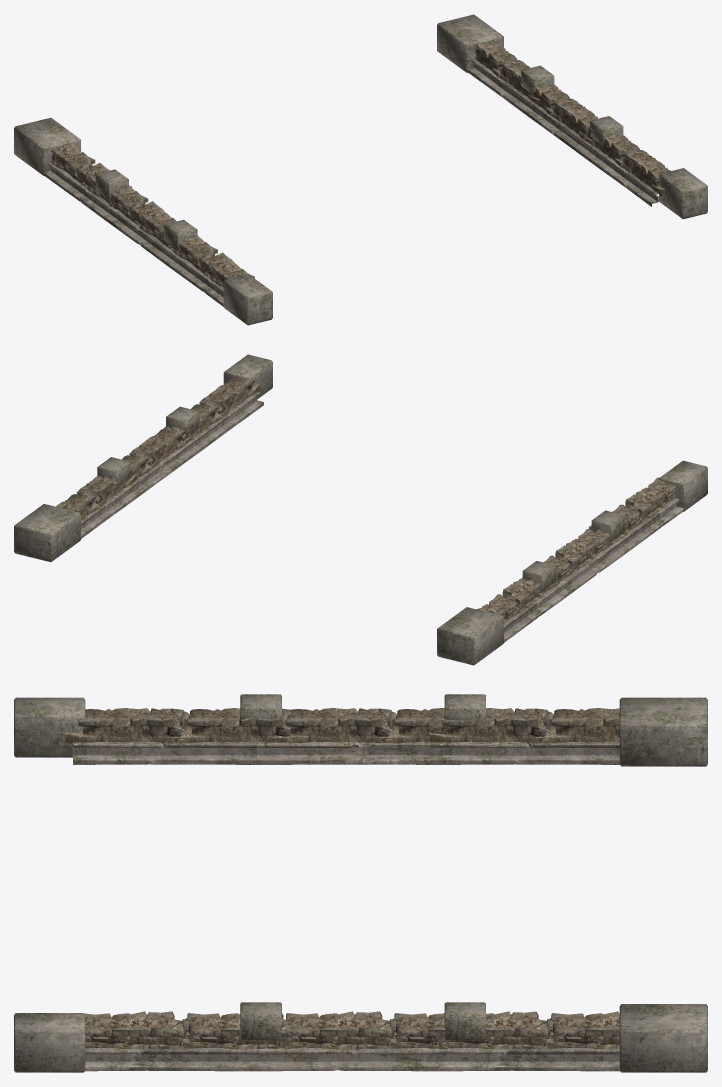
Rendered from Greenhouse_Door04.FBX.
3 renders of one model, top to bottom at view 1: azimuth 30°, elevation 25°; view 2: azimuth 150°, elevation 25°; view 3: azimuth 270°, elevation 25°, orthographic. The views are drawn at different scales.
Visible parts, largest first — view 1: Greenhouse_Door04; view 2: Greenhouse_Door04; view 3: Greenhouse_Door04.
Part boxes in pixels (x1,y1,x2,y2): Greenhouse_Door04: [14, 14, 707, 325]; Greenhouse_Door04: [14, 354, 707, 665]; Greenhouse_Door04: [14, 694, 707, 1072].
Bounding box in the file's own units: 1965 × 140 × 1725.
